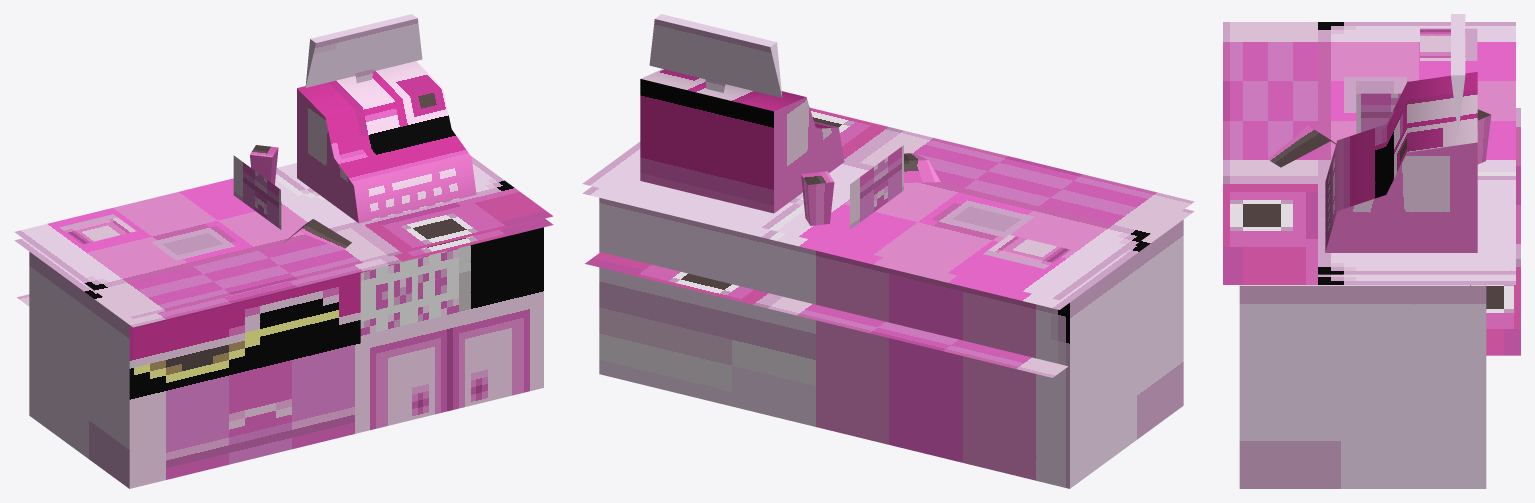
The picture shows the model from 3 angles, left to right: view 1: azimuth 30°, elevation 25°; view 2: azimuth 150°, elevation 25°; view 3: azimuth 270°, elevation 25°; orthographic projection. The views are drawn at different scales.
Parts seen in each view (by area): view 1: 3894kg3_shp16; view 2: 3894kg3_shp16; view 3: 3894kg3_shp16.
Part boxes in pixels (x1,y1,x2,y2): 3894kg3_shp16: [14, 14, 553, 488]; 3894kg3_shp16: [582, 14, 1194, 488]; 3894kg3_shp16: [1223, 14, 1520, 488].
Size of the model in its own units: 1.8 by 1.3 by 0.8982.
3 materials, 3 textured.
